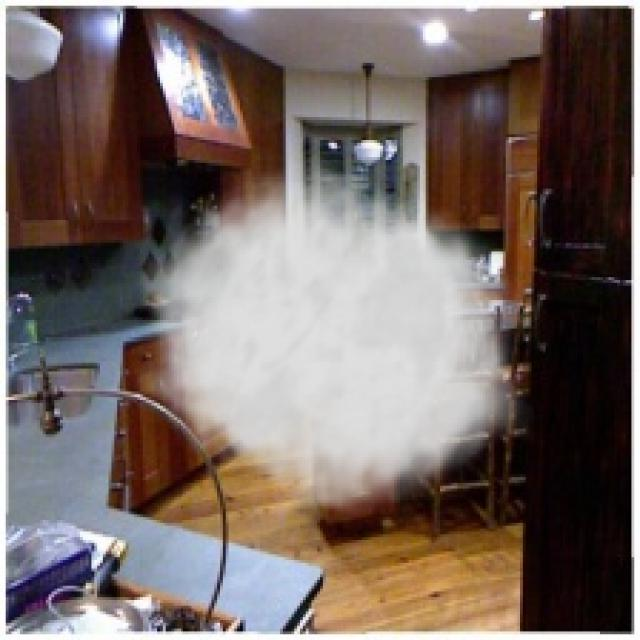smoke: (135, 151, 534, 523)
